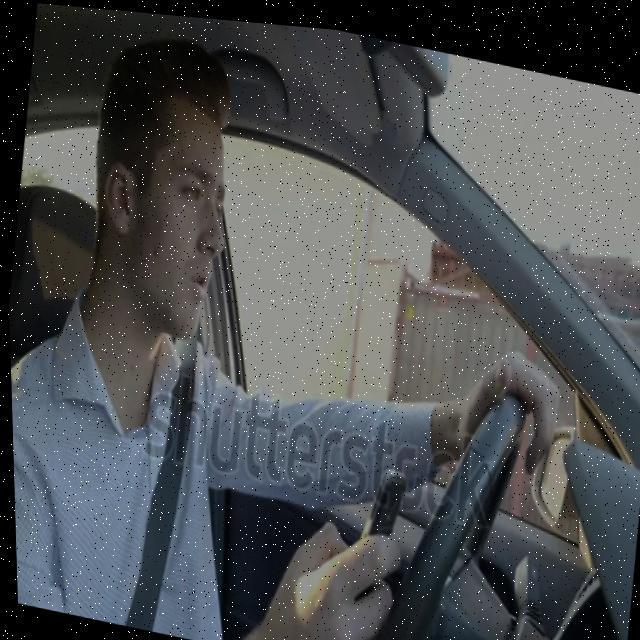PhoneCall: (349, 457, 406, 606)
